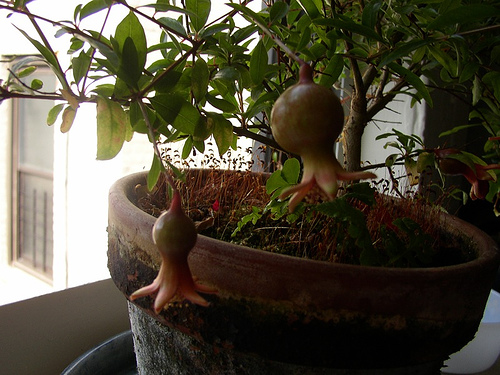pomogranate: (270, 63, 376, 215), (129, 187, 212, 315)
